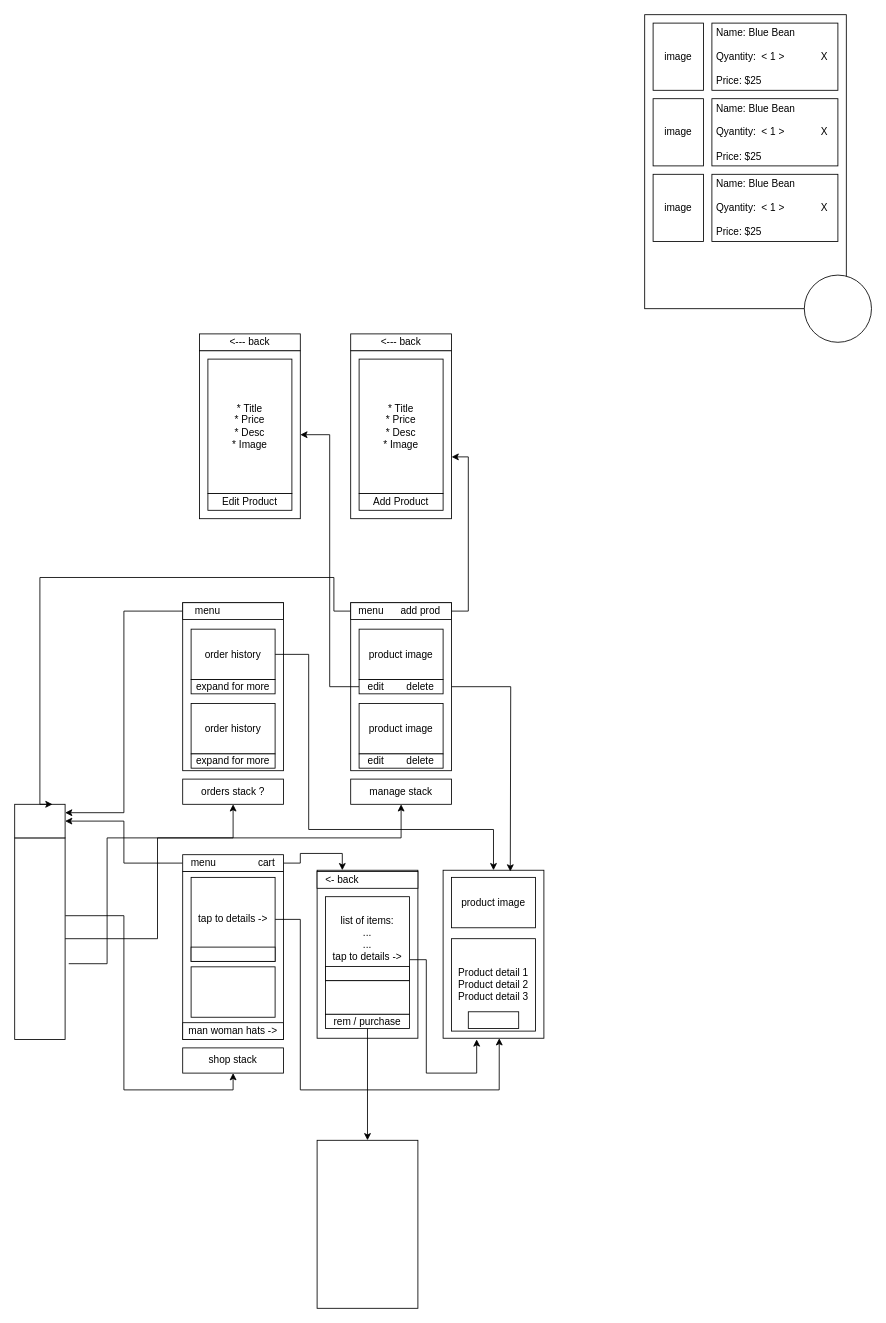
Image size: 886x1323. Some labels were removed from this diagram. Each missing label, with the centre of its shape:
"add to cart" belongs at [493,1020].
"Cart Sample" belongs at [837,308].
"count price" belongs at [367,973].
"details to cart" belongs at [232,953].
"Drawer" belongs at [39,820].
"purchase screen" belongs at [367,1223].
"Shop Orders Manage" belongs at [39,938].
"total count ... total price ..." belongs at [367,997].
